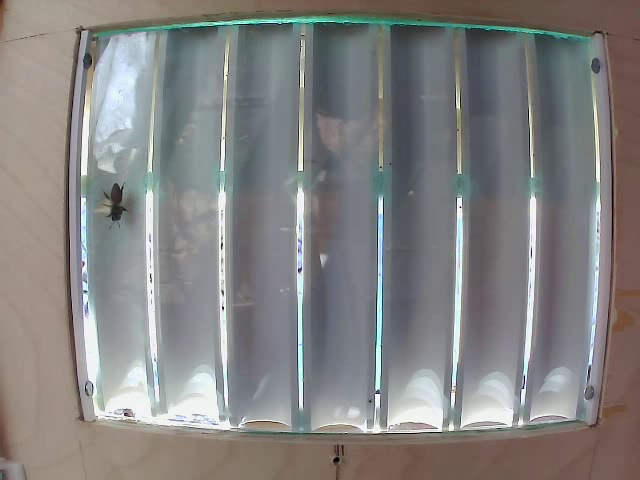bee: (105, 185, 143, 225)
